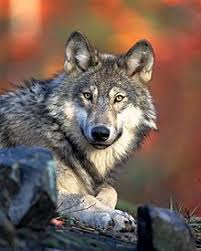Lobo: (42, 31, 159, 197)
